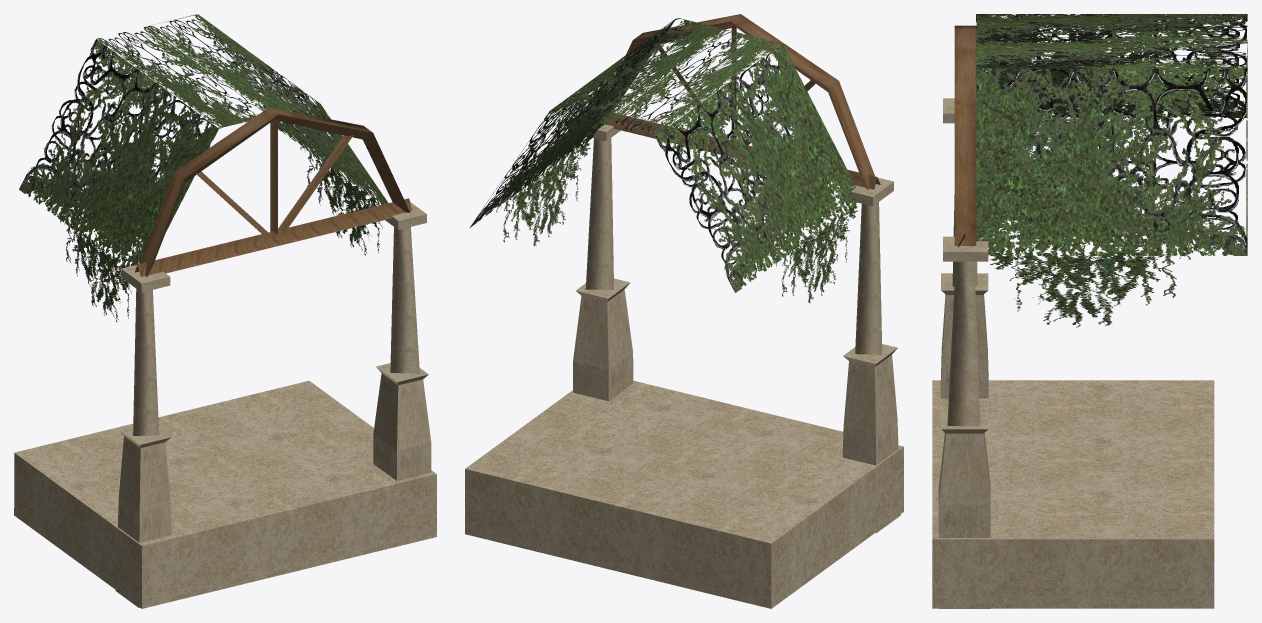
The model's file is thm_nboo_imprv_arbor_short_s01_l1.fbx.
3 views of the same model, side by side, from view 1: azimuth 30°, elevation 25°; view 2: azimuth 150°, elevation 25°; view 3: azimuth 270°, elevation 25° (orthographic). The views are drawn at different scales.
Parts seen in each view (by area): view 1: mesh_node; view 2: mesh_node; view 3: mesh_node.
Boxes of the visible parts, <box> form: mesh_node: <box>14,14,436,608</box>; mesh_node: <box>465,14,903,608</box>; mesh_node: <box>932,14,1247,608</box>.
Size of the model in its own units: 4 by 5.86 by 3.35.
Materials: 4 (4 with a texture image).
